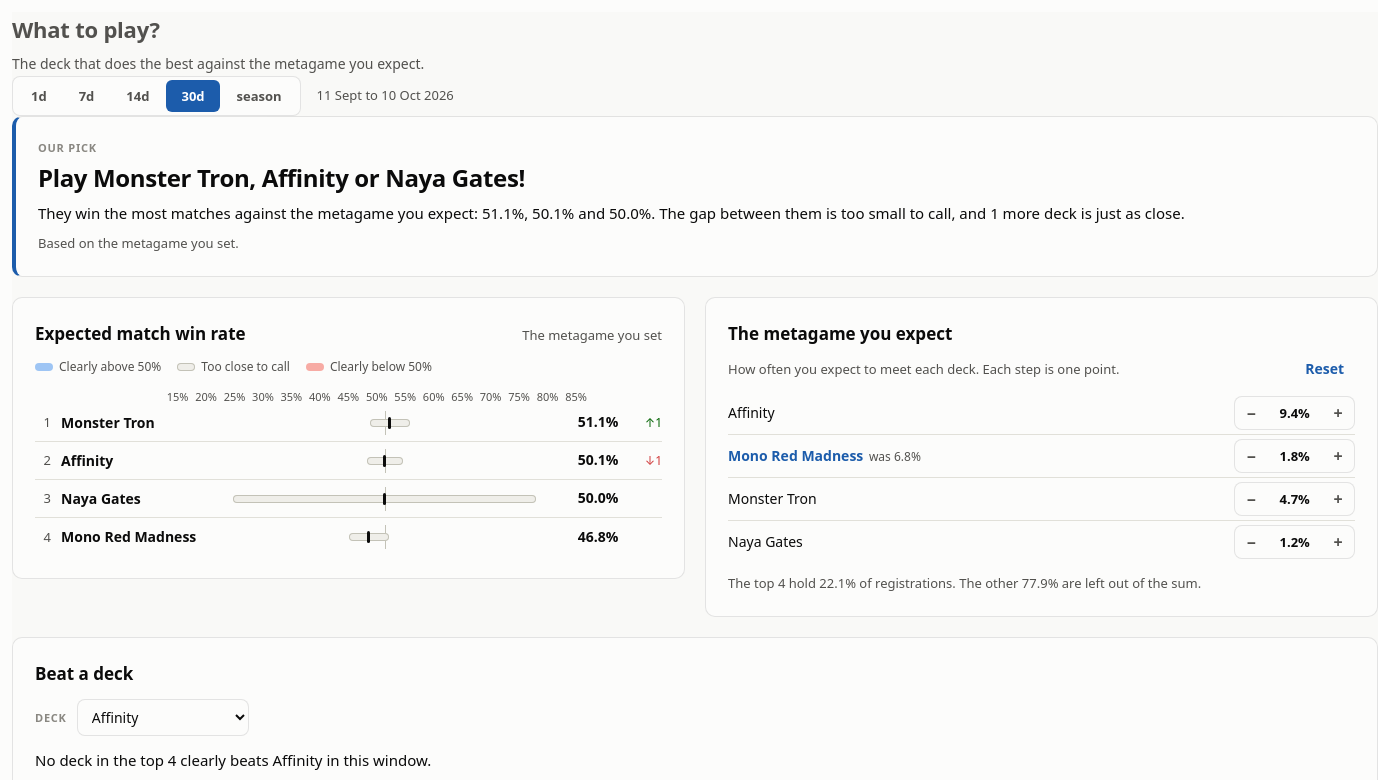
Test: WhatToPlayPage › removes the changes from the address on Reset, and moves focus to the panel's title
Check: the text "Based on the metagame you set." is shown, box [38,234,239,252]
Click the button "Reset" at [1325, 368], box [1294,353,1355,384]
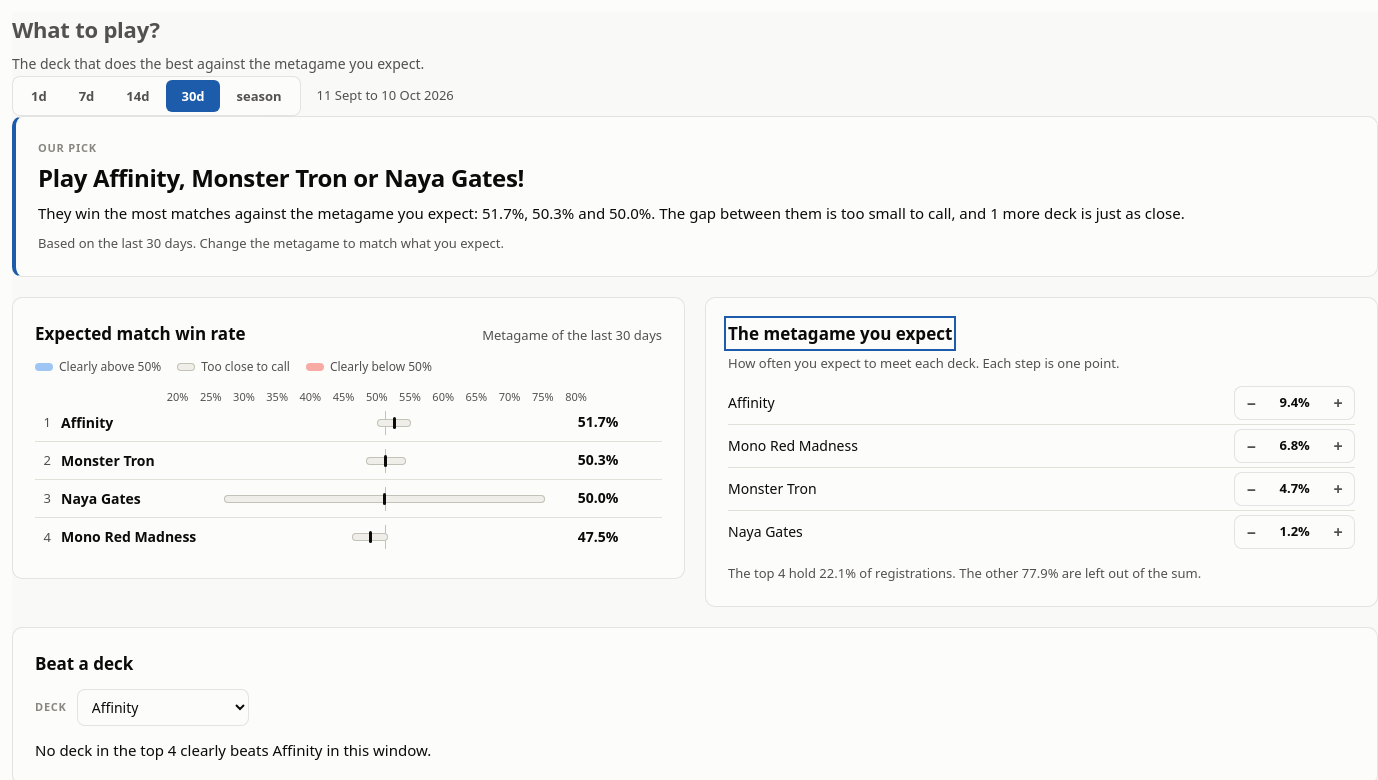
Check: the text "Based on the last 30 days. Change the metagame to match what you expect." is shown, box [38,234,504,252]
